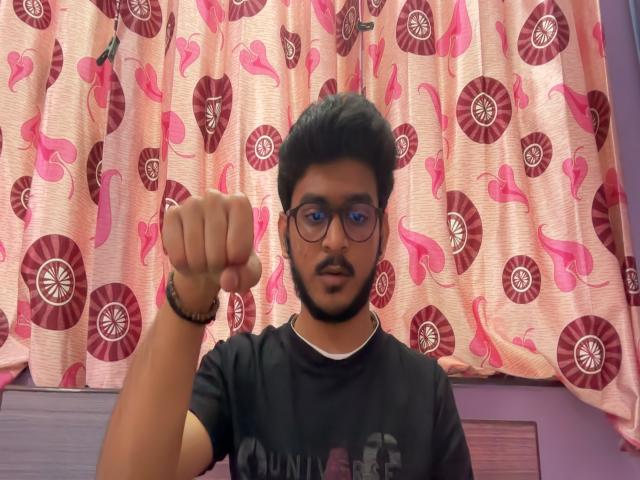Yes: (158, 183, 268, 306)
